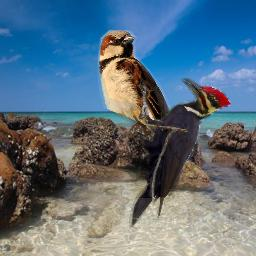Swallow: (97, 30, 176, 182)
Woodpecker: (129, 78, 232, 227)
